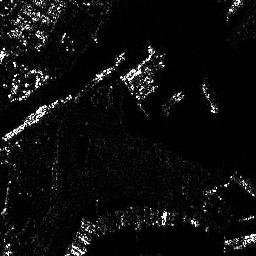ship: (231, 171, 256, 199), (201, 82, 218, 115), (224, 231, 256, 248), (81, 217, 102, 236), (24, 104, 47, 121), (75, 229, 92, 245), (68, 243, 86, 256)
